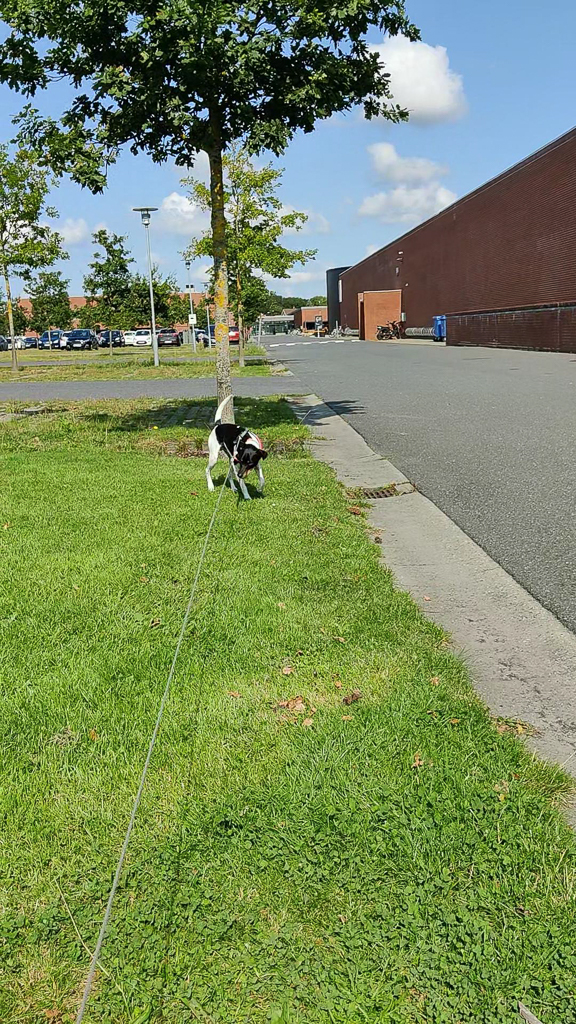Dog: (198, 392, 275, 506)
